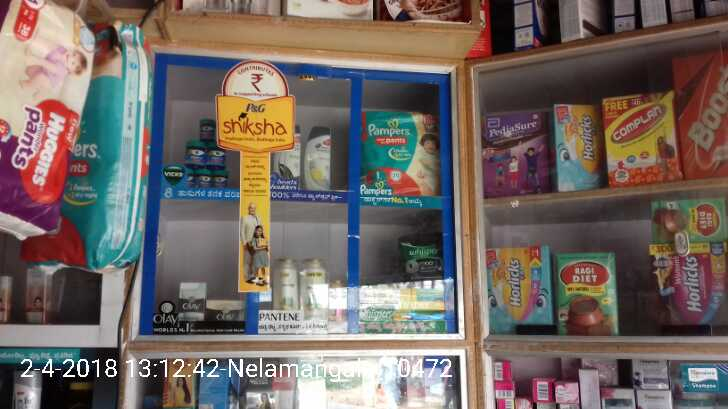vicks: (181, 114, 227, 187)
